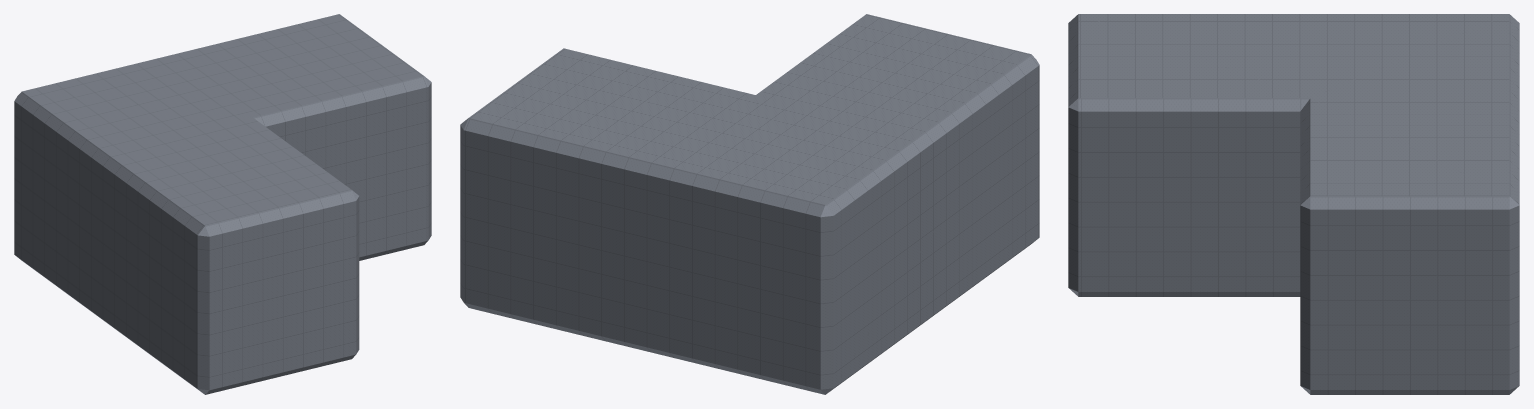
The model's file is R4B_CornerL3_LOD1.glb.
The picture shows the model from 3 angles, left to right: view 1: azimuth 30°, elevation 25°; view 2: azimuth 150°, elevation 25°; view 3: azimuth 270°, elevation 25°; orthographic projection. The views are drawn at different scales.
Parts seen in each view (by area): view 1: R4B_CornerL3_LOD1; view 2: R4B_CornerL3_LOD1; view 3: R4B_CornerL3_LOD1.
Boxes of the visible parts, x1,y1,x2,y2 form: R4B_CornerL3_LOD1: (14,14,431,394); R4B_CornerL3_LOD1: (460,14,1039,394); R4B_CornerL3_LOD1: (1068,14,1519,394).
Bounding box in the file's own units: 1.07 × 0.52 × 1.07.
Materials: 1 (1 with a texture image).
